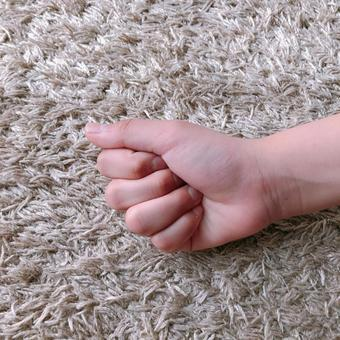gu-: (82, 117, 259, 254)
